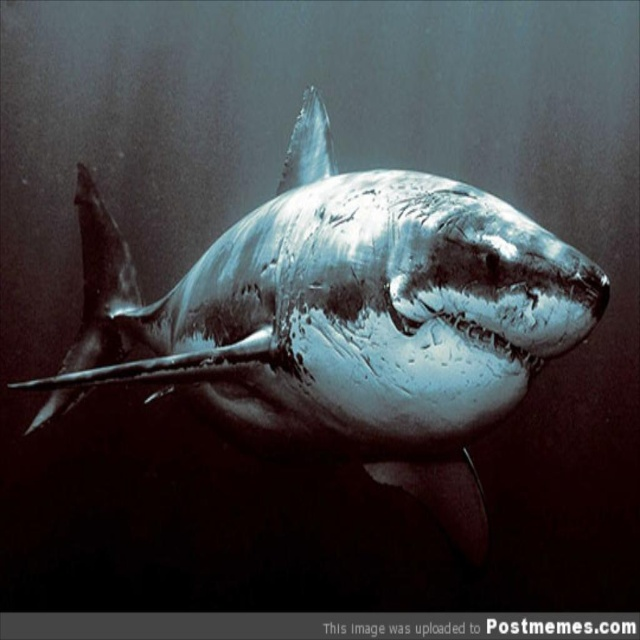Shark: (6, 81, 610, 583)
